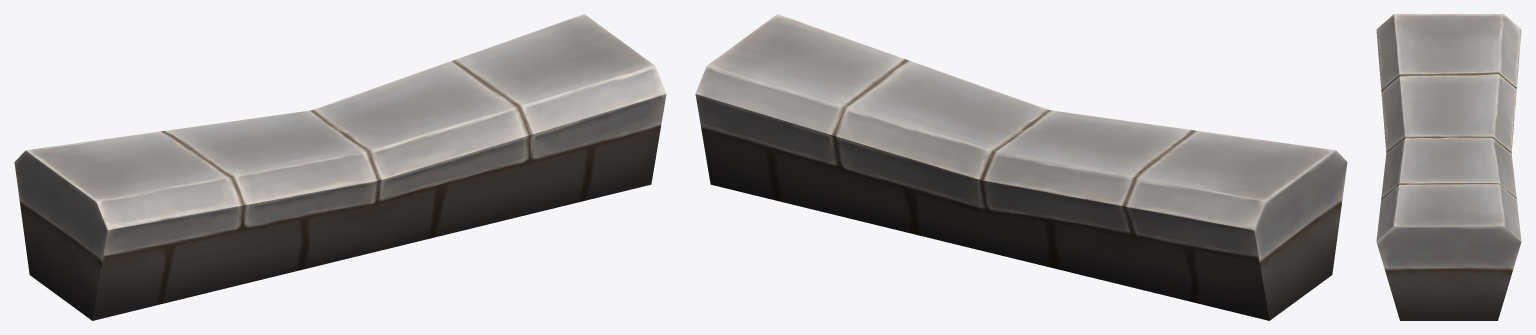
File: Dwarf_Village_Props_12.FBX
3 renders of one model, left to right at view 1: azimuth 30°, elevation 25°; view 2: azimuth 150°, elevation 25°; view 3: azimuth 270°, elevation 25°, orthographic. The views are drawn at different scales.
Visible parts, largest first — view 1: Dwarf_Village_Props_12; view 2: Dwarf_Village_Props_12; view 3: Dwarf_Village_Props_12.
Boxes of the visible parts, x1,y1,x2,y2 form: Dwarf_Village_Props_12: [14, 14, 666, 320]; Dwarf_Village_Props_12: [695, 14, 1347, 320]; Dwarf_Village_Props_12: [1376, 14, 1521, 320].
Bounding box in the file's own units: 346 × 72.01 × 99.94.
